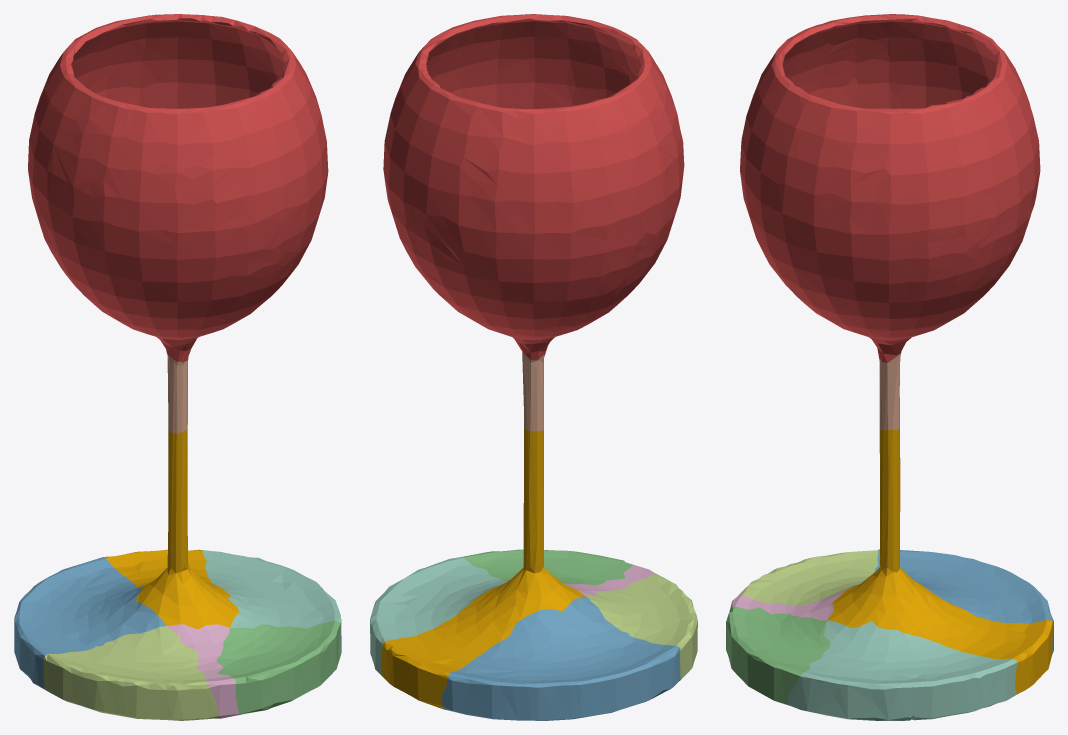
The model's file is fractured_57_8pcs.glb.
3 views of the same model, side by side, from view 1: azimuth 30°, elevation 25°; view 2: azimuth 150°, elevation 25°; view 3: azimuth 270°, elevation 25° (orthographic).
Visible parts, largest first — view 1: piece_1.obj, piece_5.obj, piece_2.obj, piece_0.obj, piece_3.obj, piece_4.obj, piece_6.obj, piece_7.obj; view 2: piece_1.obj, piece_2.obj, piece_0.obj, piece_4.obj, piece_5.obj, piece_3.obj, piece_7.obj, piece_6.obj; view 3: piece_1.obj, piece_4.obj, piece_0.obj, piece_3.obj, piece_2.obj, piece_5.obj, piece_7.obj, piece_6.obj.
Part boxes in pixels (left/top/right/bottom): piece_1.obj: left=28, top=14, right=328, bottom=362; piece_5.obj: left=43, top=626, right=218, bottom=720; piece_2.obj: left=14, top=557, right=165, bottom=689; piece_0.obj: left=102, top=429, right=239, bottom=629; piece_3.obj: left=216, top=620, right=340, bottom=715; piece_4.obj: left=202, top=550, right=341, bottom=661; piece_6.obj: left=166, top=624, right=238, bottom=718; piece_7.obj: left=167, top=354, right=188, bottom=433; piece_1.obj: left=383, top=14, right=684, bottom=360; piece_2.obj: left=442, top=596, right=680, bottom=720; piece_0.obj: left=381, top=428, right=585, bottom=709; piece_4.obj: left=370, top=557, right=507, bottom=675; piece_5.obj: left=586, top=573, right=697, bottom=679; piece_3.obj: left=462, top=549, right=633, bottom=585; piece_7.obj: left=522, top=353, right=544, bottom=431; piece_6.obj: left=564, top=565, right=654, bottom=596; piece_1.obj: left=740, top=14, right=1040, bottom=362; piece_4.obj: left=787, top=620, right=1017, bottom=720; piece_0.obj: left=827, top=428, right=1053, bottom=694; piece_3.obj: left=726, top=606, right=830, bottom=704; piece_2.obj: left=850, top=549, right=1053, bottom=653; piece_5.obj: left=738, top=550, right=878, bottom=605; piece_7.obj: left=879, top=353, right=900, bottom=430; piece_6.obj: left=730, top=588, right=848, bottom=620.
Size of the model in its own units: 0.5017 by 1 by 0.5019.
